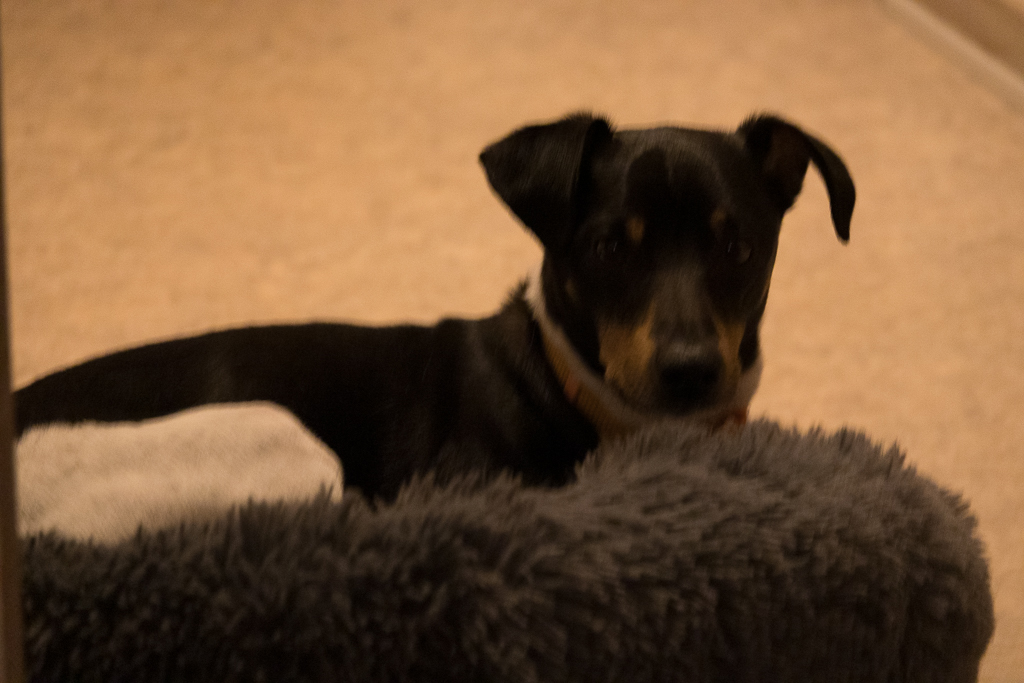Dog: (0, 105, 859, 555)
